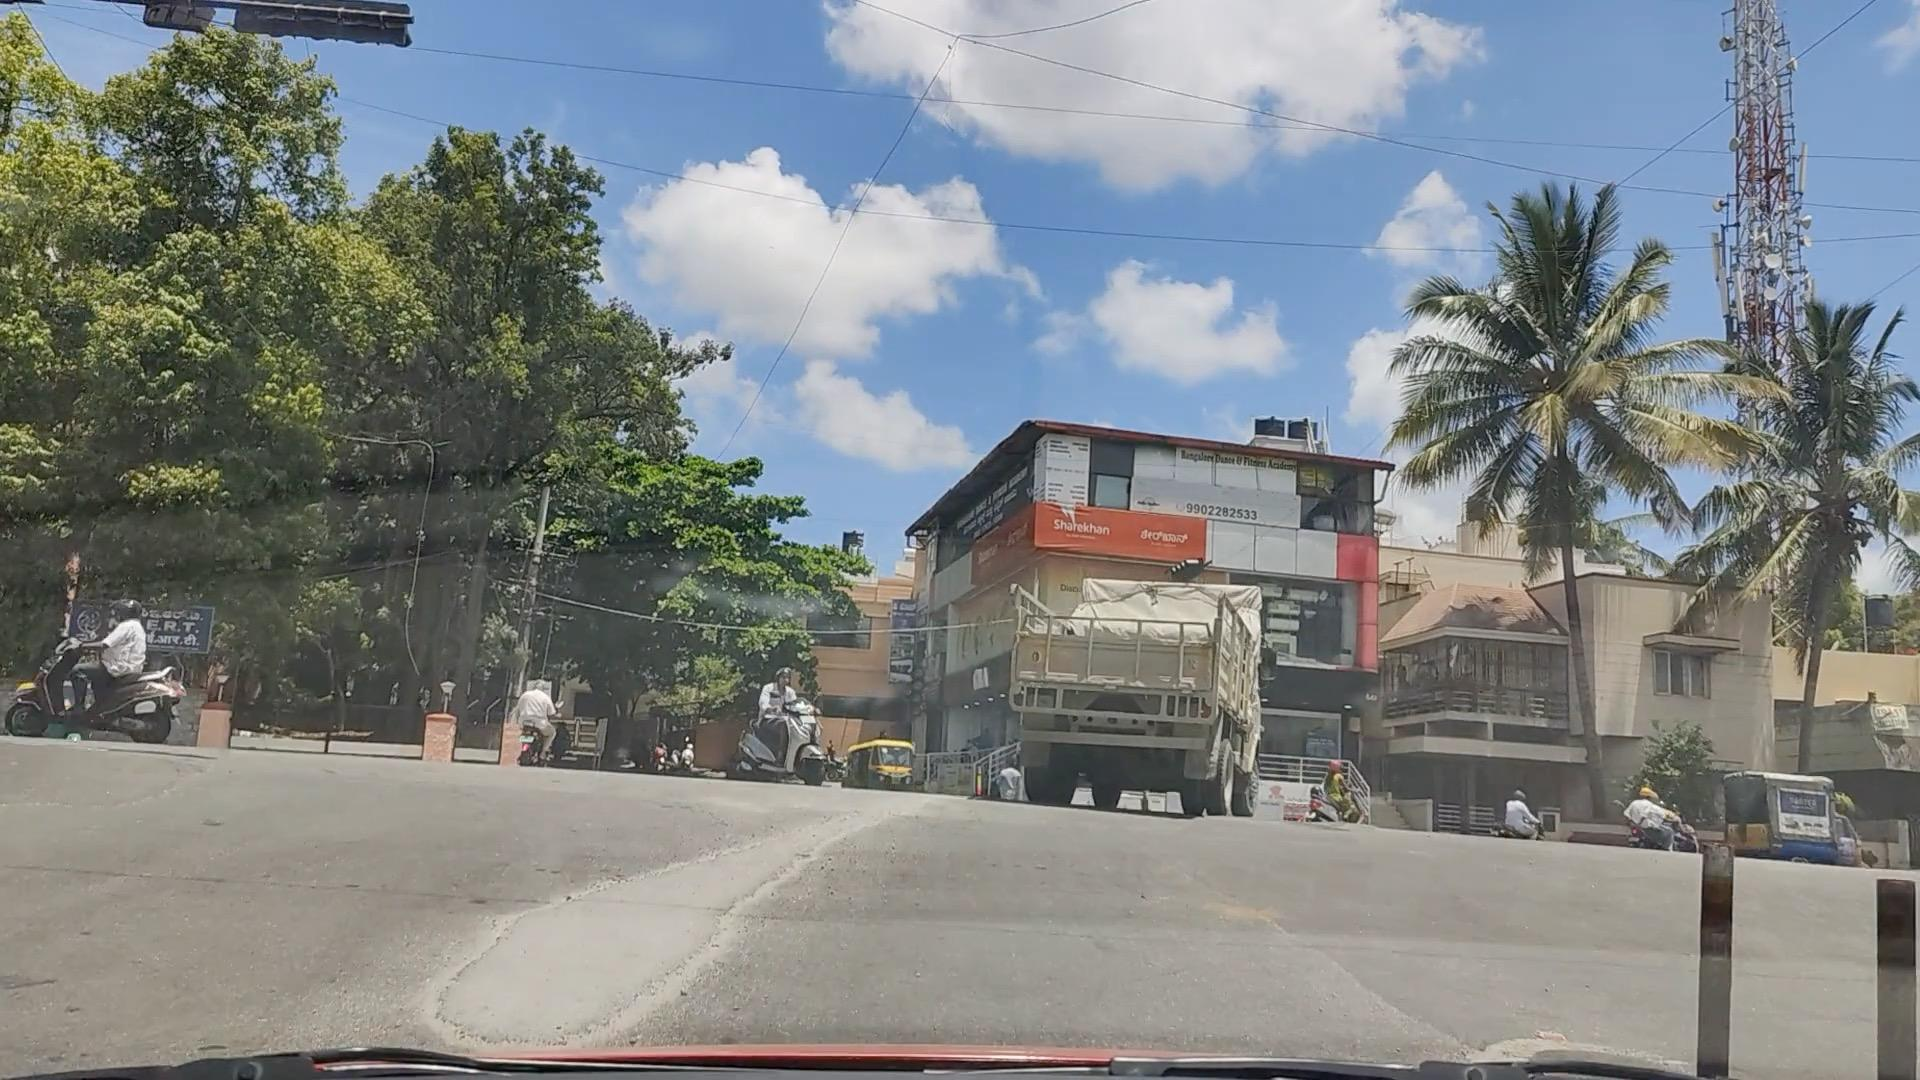HMV: (1010, 556, 1247, 806)
LMV: (22, 604, 187, 735), (731, 674, 843, 770)
RoadDamages: (430, 796, 923, 1034)
